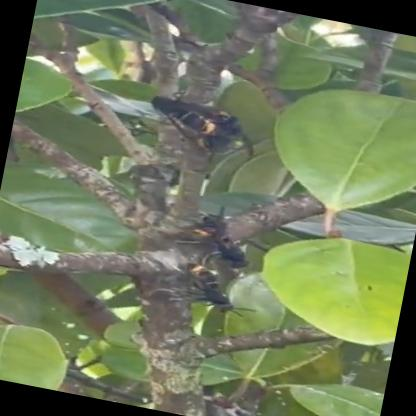bee: (146, 193, 298, 328), (124, 69, 270, 170)
